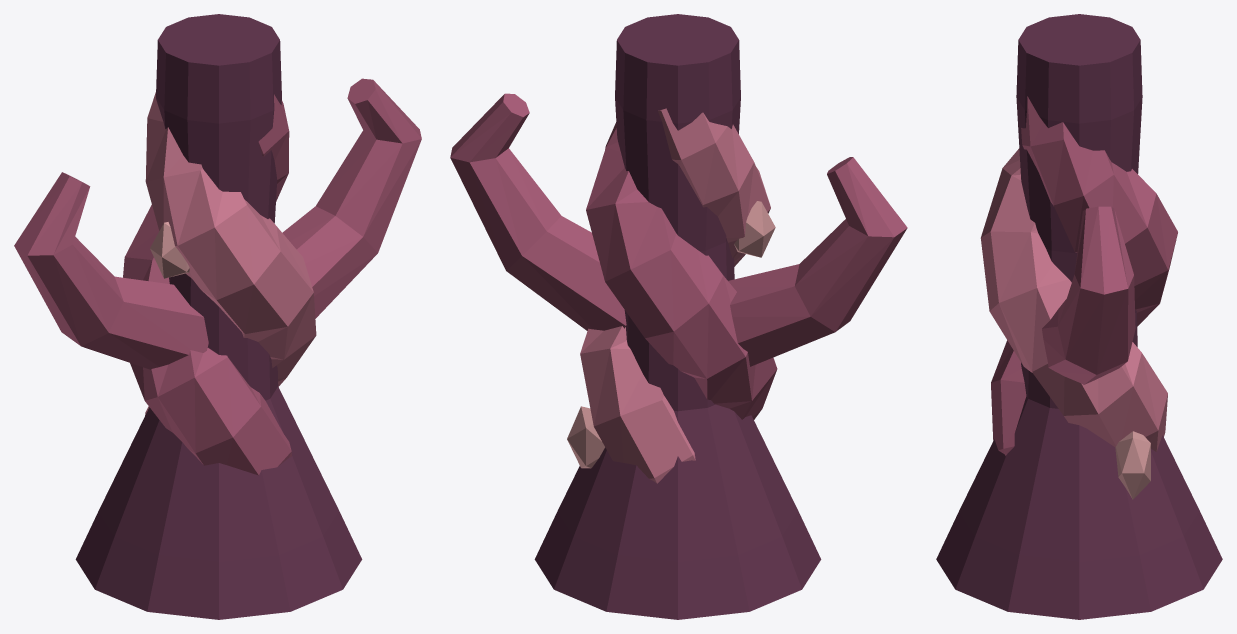
Rendered from RosewoodTwistTrunk.obj.
3 renders of one model, left to right at view 1: azimuth 30°, elevation 25°; view 2: azimuth 150°, elevation 25°; view 3: azimuth 270°, elevation 25°, orthographic.
Parts seen in each view (by area): view 1: RosewoodTwistTrunk_RosewoodCore, RosewoodTwistTrunk_RosewoodBraid, RosewoodTwistTrunk_RosewoodSecondBraid, RosewoodTwistTrunk_RosewoodKnots; view 2: RosewoodTwistTrunk_RosewoodCore, RosewoodTwistTrunk_RosewoodBraid, RosewoodTwistTrunk_RosewoodSecondBraid, RosewoodTwistTrunk_RosewoodKnots; view 3: RosewoodTwistTrunk_RosewoodCore, RosewoodTwistTrunk_RosewoodBraid, RosewoodTwistTrunk_RosewoodSecondBraid, RosewoodTwistTrunk_RosewoodKnots.
Part boxes in pixels (left/top/right/bottom): RosewoodTwistTrunk_RosewoodCore: left=75, top=14, right=362, bottom=619; RosewoodTwistTrunk_RosewoodBraid: left=14, top=78, right=421, bottom=475; RosewoodTwistTrunk_RosewoodSecondBraid: left=145, top=92, right=316, bottom=415; RosewoodTwistTrunk_RosewoodKnots: left=150, top=222, right=189, bottom=278; RosewoodTwistTrunk_RosewoodCore: left=534, top=14, right=821, bottom=619; RosewoodTwistTrunk_RosewoodBraid: left=450, top=93, right=907, bottom=419; RosewoodTwistTrunk_RosewoodSecondBraid: left=580, top=108, right=770, bottom=483; RosewoodTwistTrunk_RosewoodKnots: left=567, top=201, right=775, bottom=468; RosewoodTwistTrunk_RosewoodCore: left=936, top=14, right=1222, bottom=619; RosewoodTwistTrunk_RosewoodBraid: left=991, top=96, right=1177, bottom=455; RosewoodTwistTrunk_RosewoodSecondBraid: left=980, top=148, right=1167, bottom=451; RosewoodTwistTrunk_RosewoodKnots: left=1115, top=431, right=1150, bottom=499.
Size of the model in its own units: 2.56 by 3 by 1.5.
